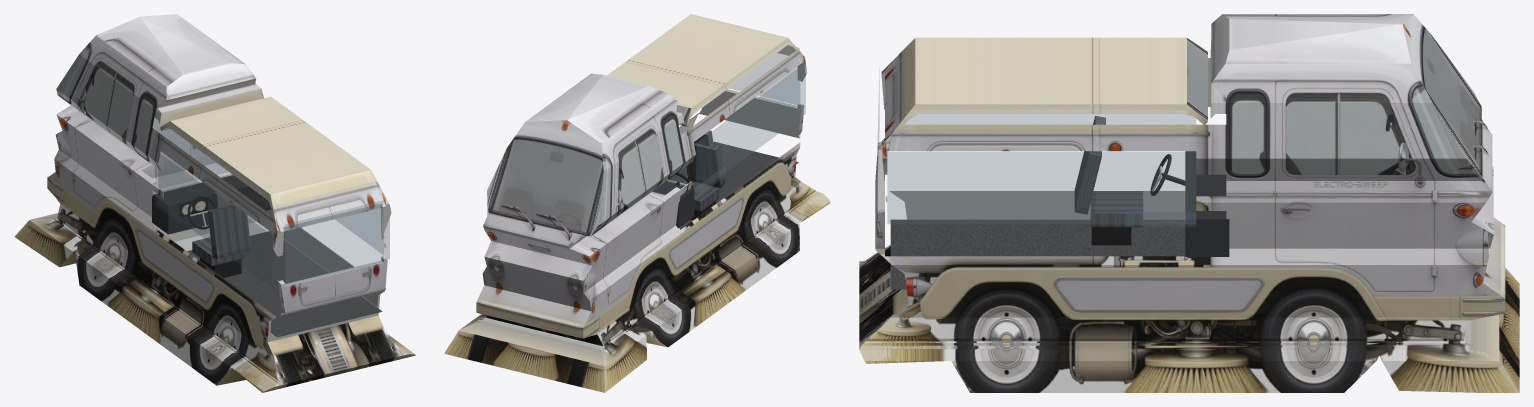
Rendered from street_sweeper.glb.
The picture shows the model from 3 angles, left to right: view 1: azimuth 30°, elevation 25°; view 2: azimuth 150°, elevation 25°; view 3: azimuth 270°, elevation 25°; orthographic projection. The views are drawn at different scales.
Visible parts, largest first — view 1: street_sweeper, street_sweeper_cabin; view 2: street_sweeper, street_sweeper_cabin; view 3: street_sweeper, street_sweeper_cabin.
Part boxes in pixels (x1,y1,x2,y2): street_sweeper: (14,14,415,392); street_sweeper_cabin: (152,129,389,337); street_sweeper: (445,14,830,392); street_sweeper_cabin: (652,47,805,229); street_sweeper: (859,14,1519,392); street_sweeper_cabin: (877,80,1229,289).
Size of the model in its own units: 2.37 by 3.23 by 5.99.
Materials: 11 (4 with a texture image).
